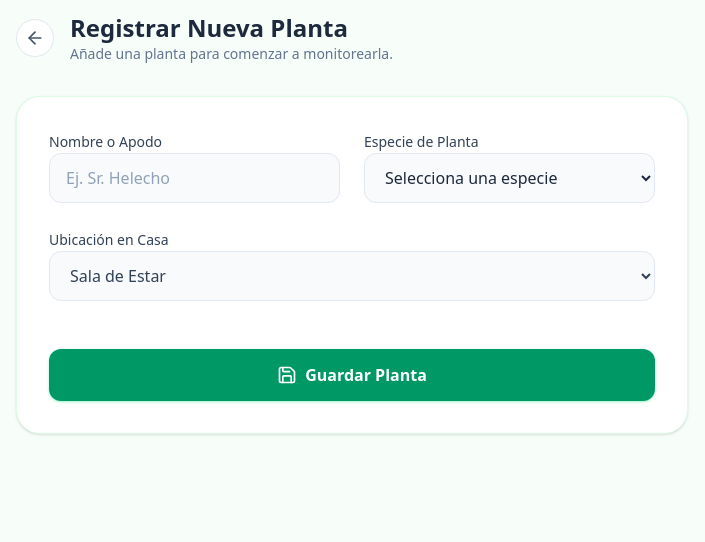
Formulario AddPlant › al escribir en el campo con error, su mensaje desaparece
The image size is (705, 542).
Type "Pepita" into the field labelled "Nombre o Apodo" at (194, 178), box [49,153,340,203]
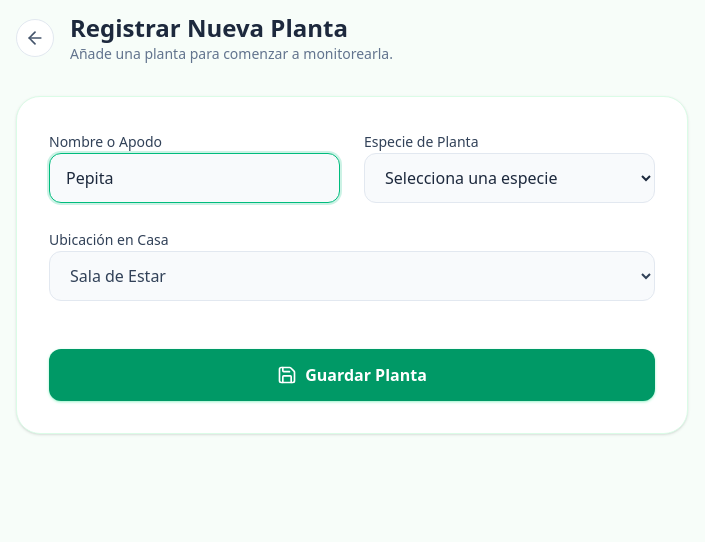
Select "Pothos" in the dropdown labelled "Especie de Planta" at (510, 178), box [364,153,655,203]
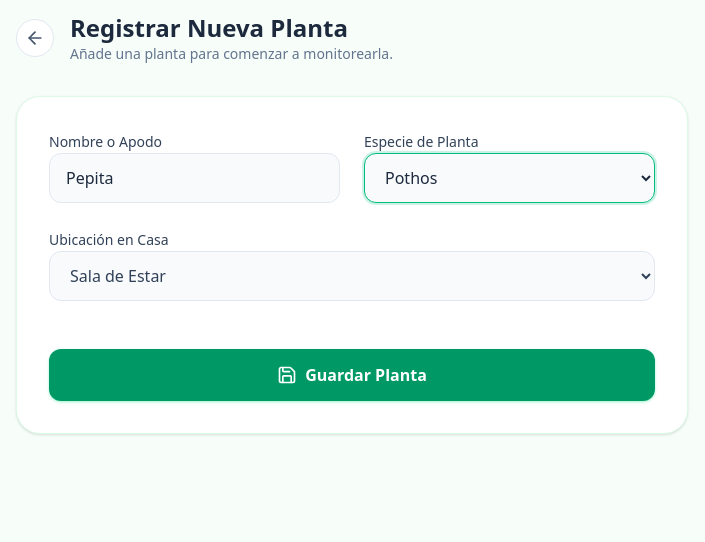
Select "Cocina" in the dropdown labelled "Ubicación en Casa" at (352, 276), box [49,251,655,301]
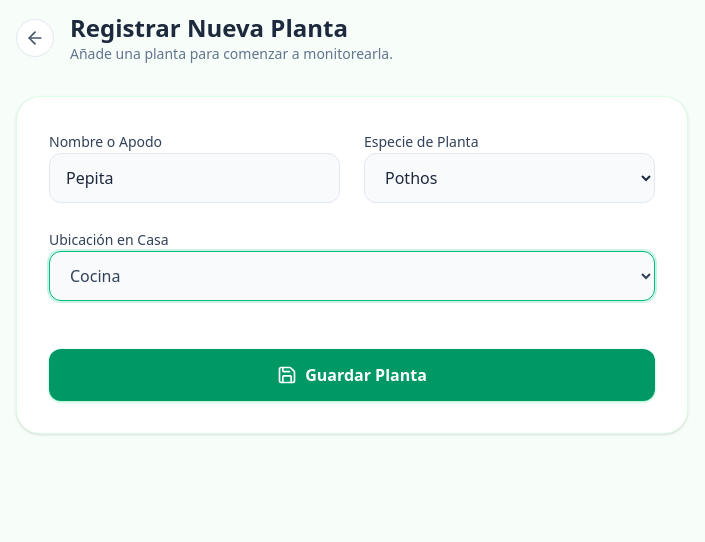
Click the button "Guardar Planta" at (352, 375), box [49,349,655,401]
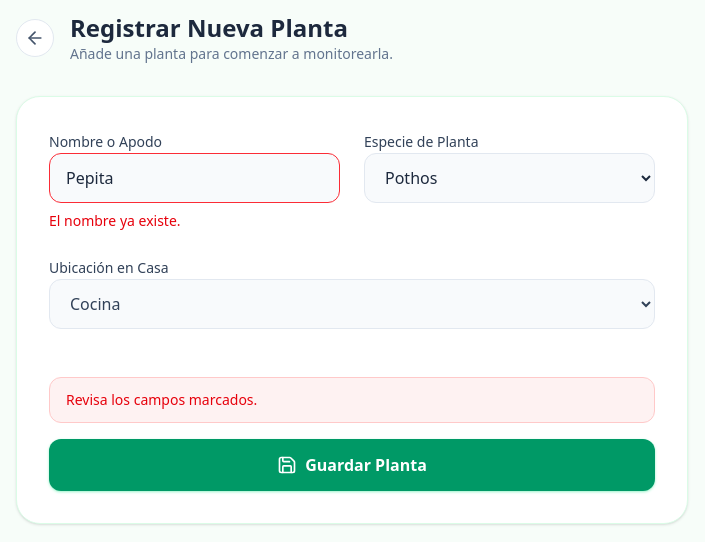
Expected: the text "El nombre ya existe." is shown, [49,211,181,230]
Type "s" into the field labelled "Nombre o Apodo" at (194, 178), box [49,153,340,203]
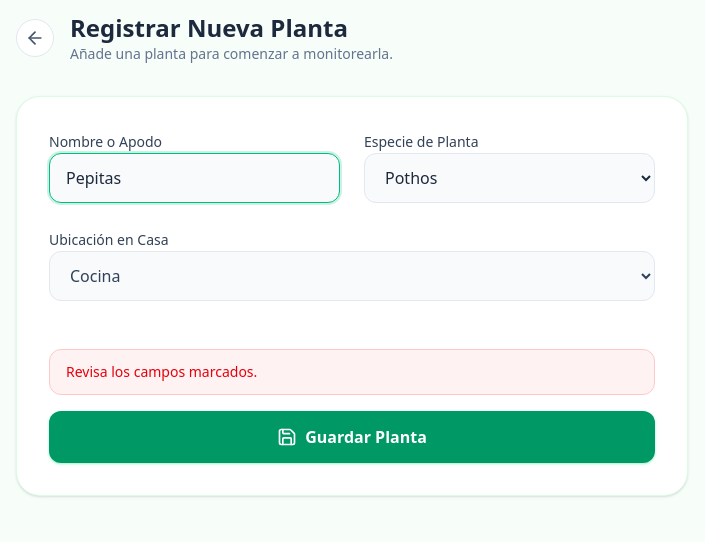
Expected: the text "El nombre ya existe." is gone
